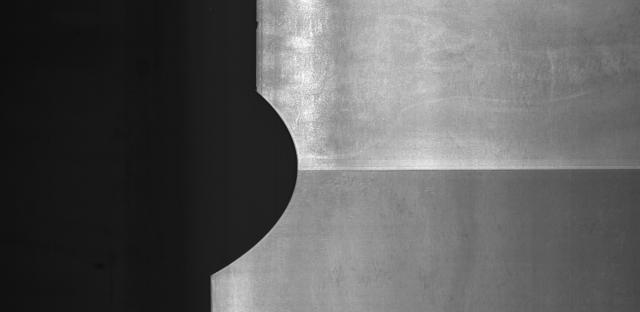crescent_gap: (195, 85, 305, 284)
welding_line: (300, 160, 638, 178)
